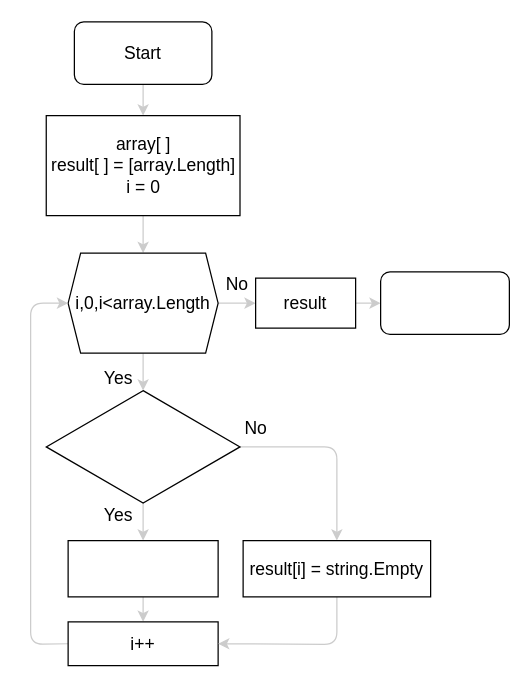
The diagram is 531 pixels wide and 688 high, and some of its shapes have lost their labels. Each missing label, with the centre of its shape:
"array[i].Length <= 3" goes at (x=142, y=446).
"Finish" goes at (x=444, y=302).
"result[i] = array[i]" goes at (x=142, y=568).
